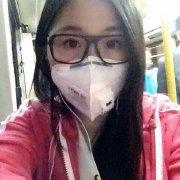OK: (47, 25, 133, 111)
